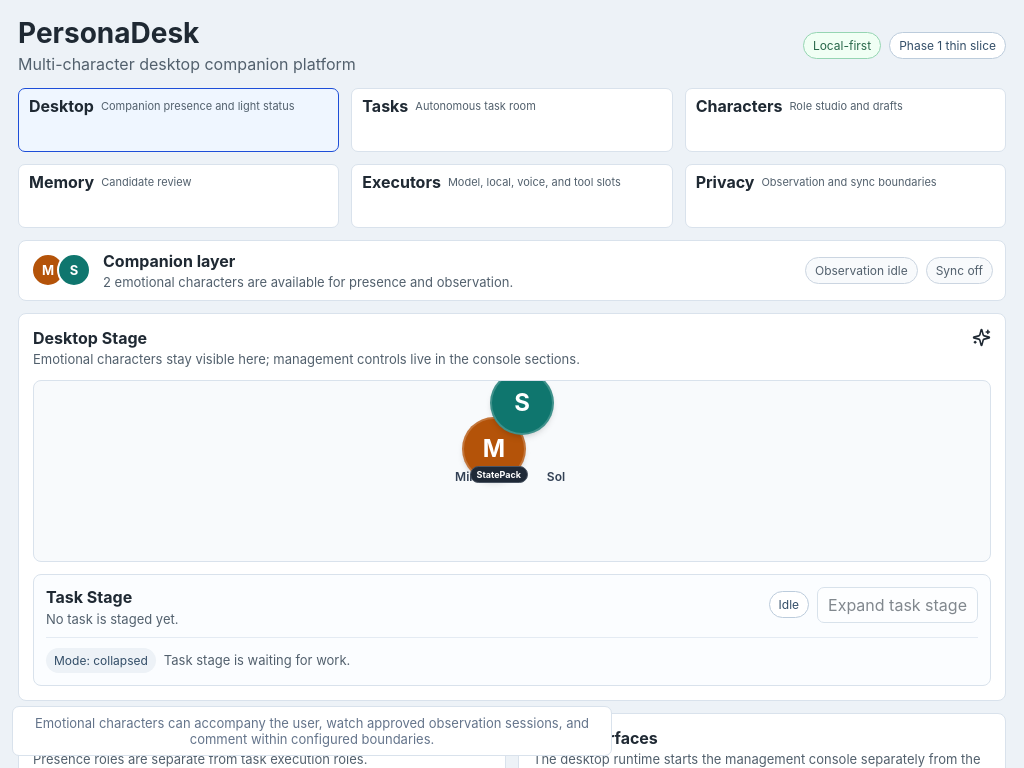
Scenario: PersonaDesk app › records voice requests as local audit entries without capturing audio
Click the button "Executors Model, local, voice, and tool slots" at (402, 182), box [351,164,673,228]
(page scrolled)
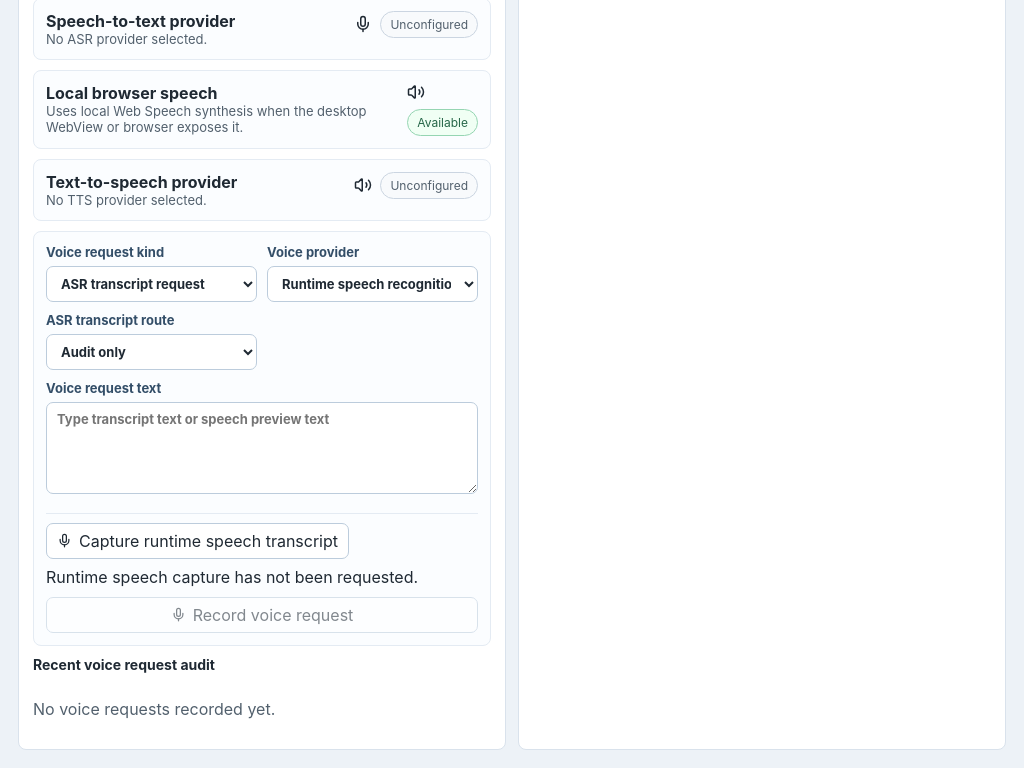
Type "Please transcribe this local note." into the text box labelled "Voice request text" at (262, 448), box [46,402,478,494]
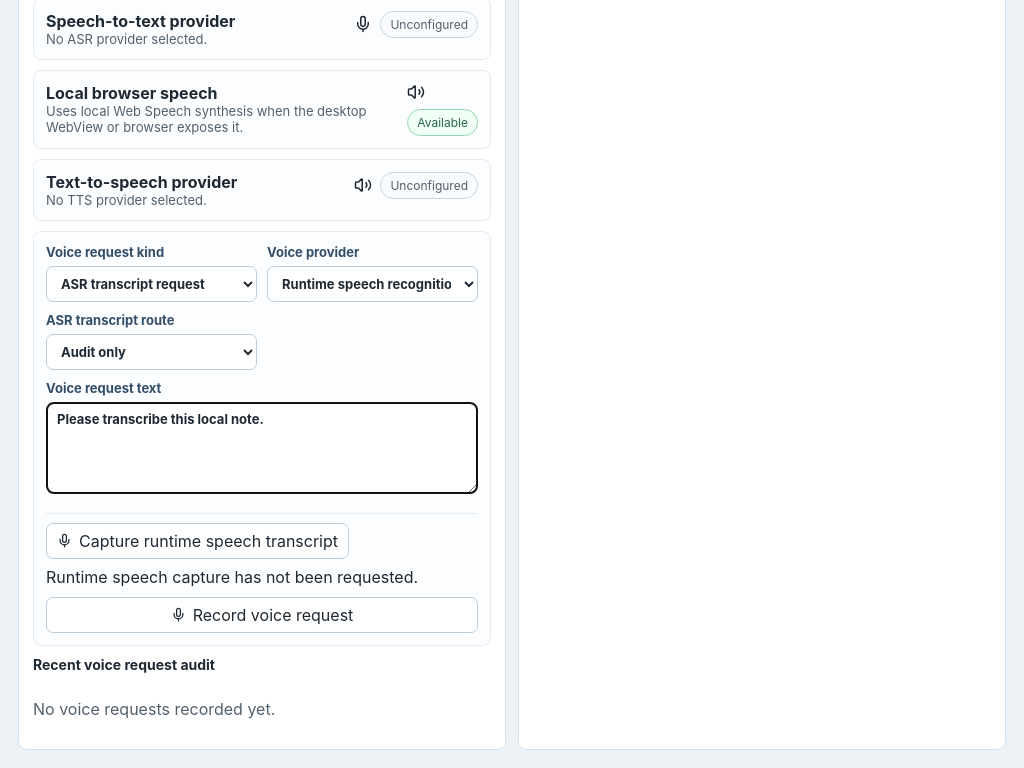
Click the button "Record voice request" at (262, 615), box [46,597,478,633]
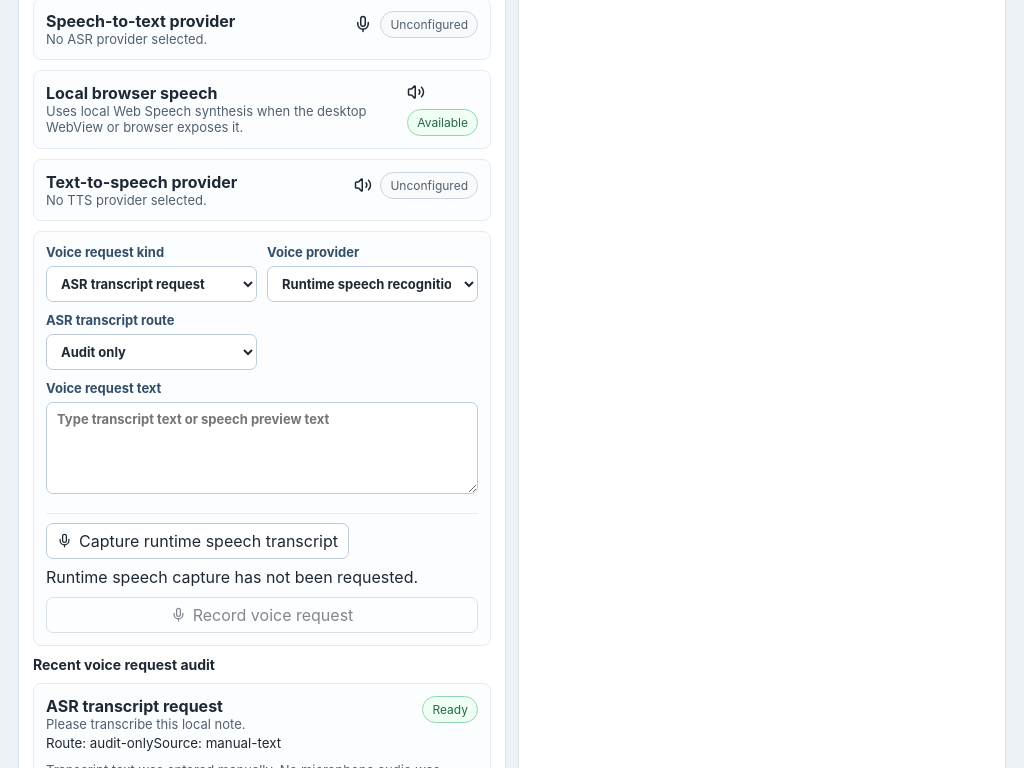
Expected: the text "Please transcribe this local note." is shown, [46,716,246,732]
Expected: the text "Route: audit-only" is shown, [46,735,154,751]
Expected: the text "Source: manual-text" is shown, [154,735,281,751]
